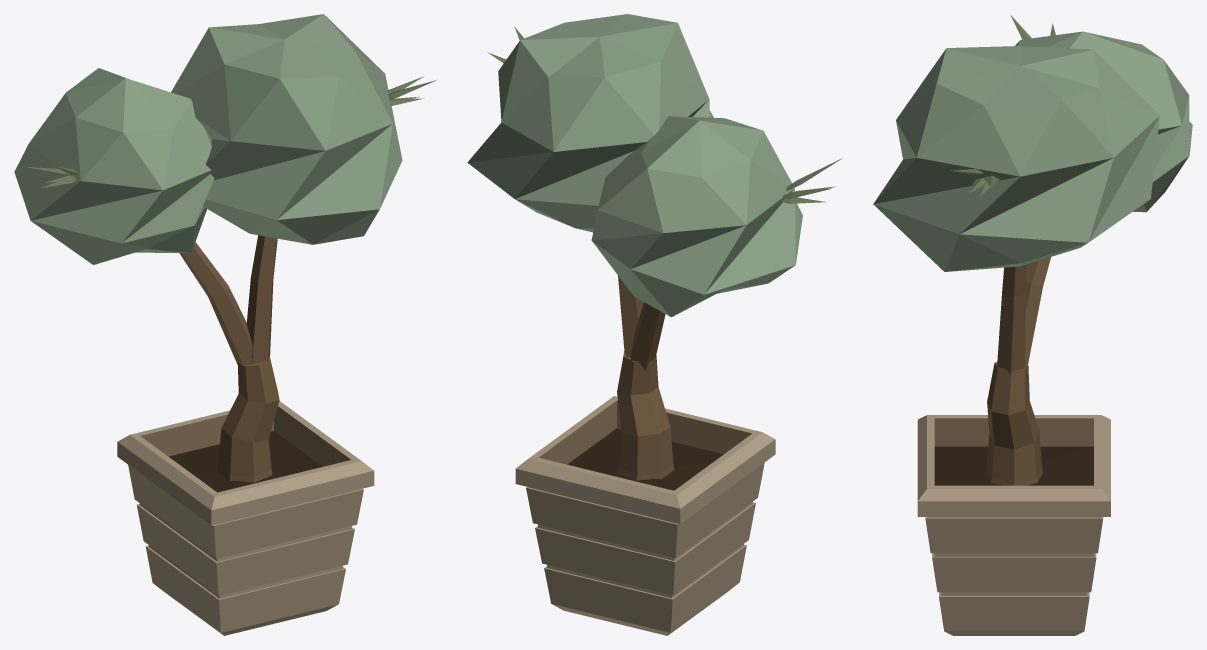
The model's file is olive_tree_1.glb.
3 renders of one model, left to right at view 1: azimuth 30°, elevation 25°; view 2: azimuth 150°, elevation 25°; view 3: azimuth 270°, elevation 25°, orthographic. The views are drawn at different scales.
Visible parts, largest first — view 1: mesh_0; view 2: mesh_0; view 3: mesh_0.
Part boxes in pixels (left/top/right/bottom): mesh_0: left=14, top=14, right=436, bottom=635; mesh_0: left=467, top=14, right=842, bottom=635; mesh_0: left=873, top=15, right=1192, bottom=635.
Size of the model in its own units: 1.42 by 2 by 1.02.
